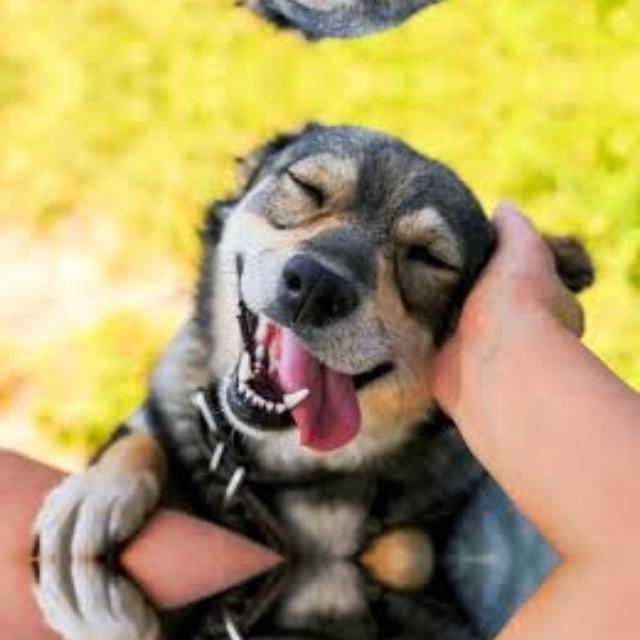dog: (59, 114, 502, 558), (59, 559, 502, 640), (59, 0, 502, 48)
